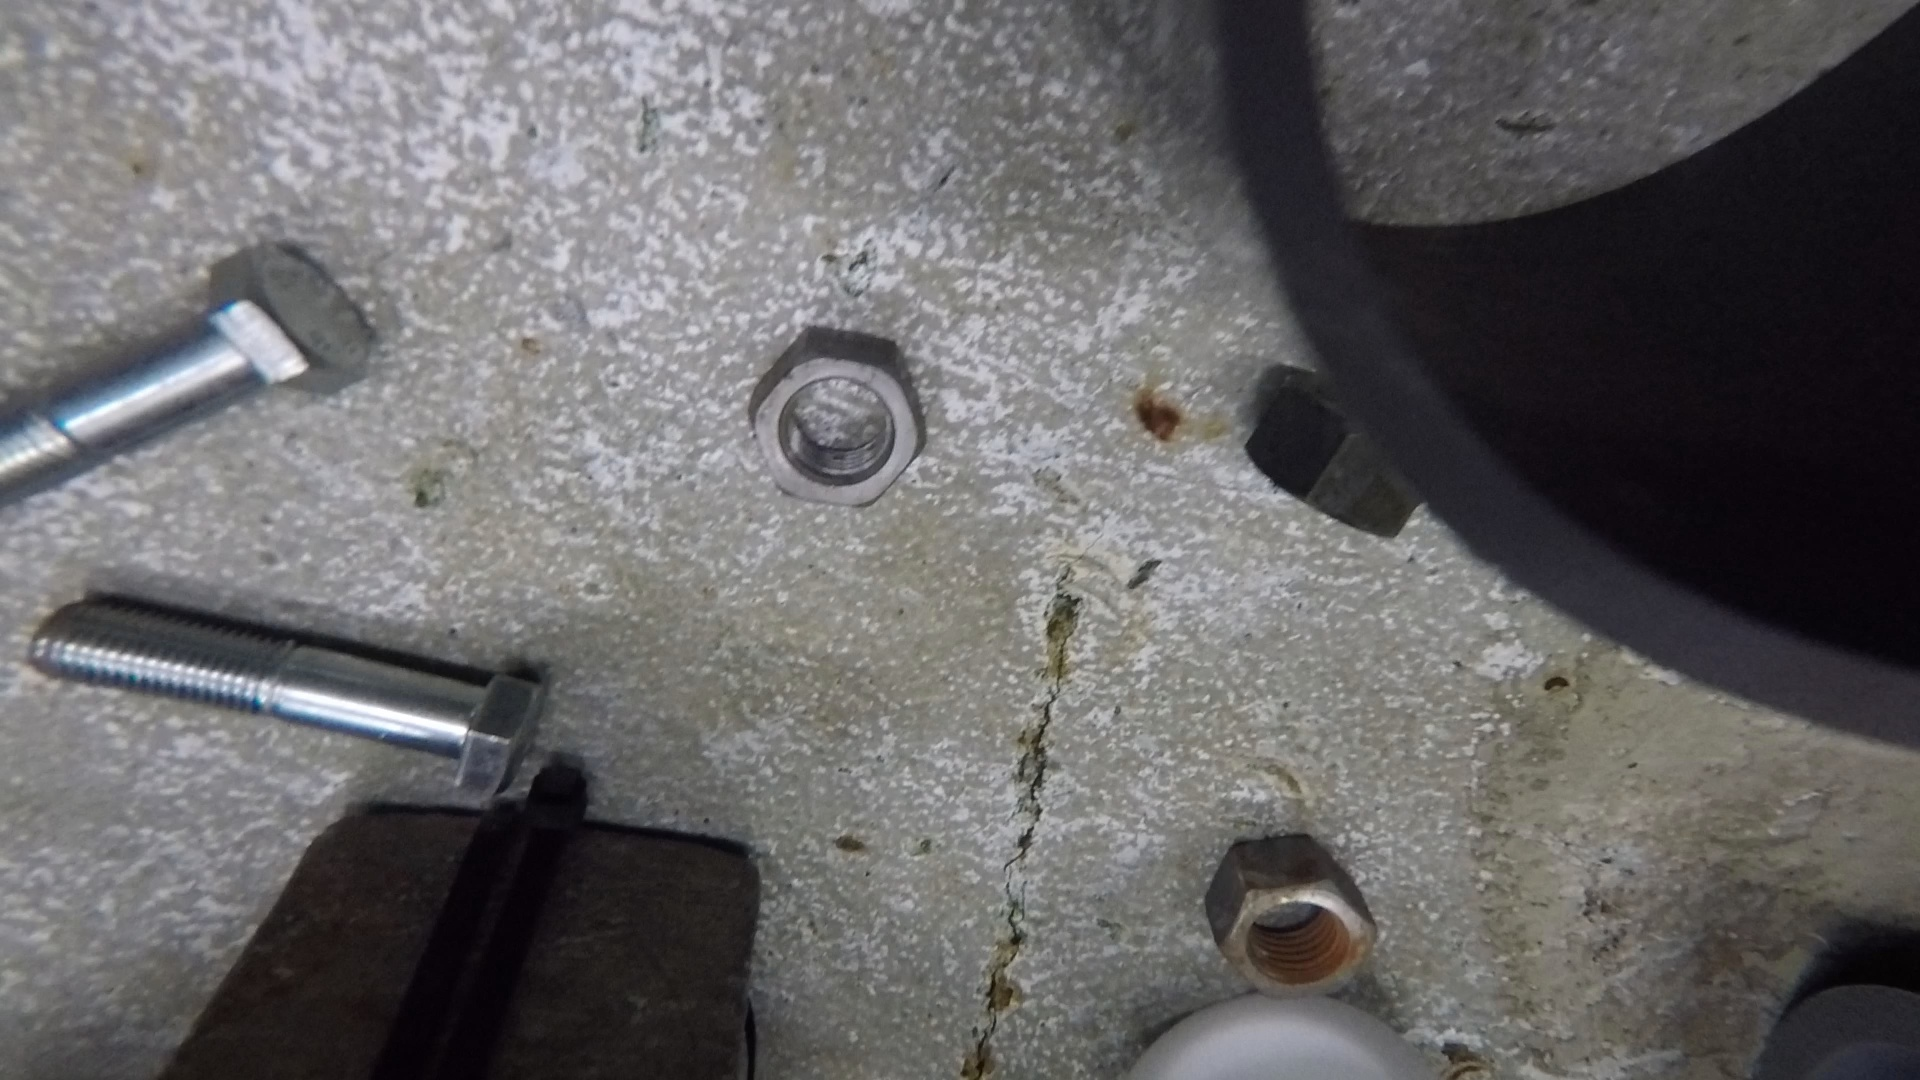bolt: (24, 597, 549, 798), (1, 243, 375, 502)
led_block: (153, 771, 760, 1080)
nut: (748, 324, 927, 512), (1244, 367, 1424, 543), (1207, 833, 1383, 1001)
pipe: (1209, 3, 1920, 752), (1118, 990, 1432, 1080), (1753, 977, 1920, 1079)
